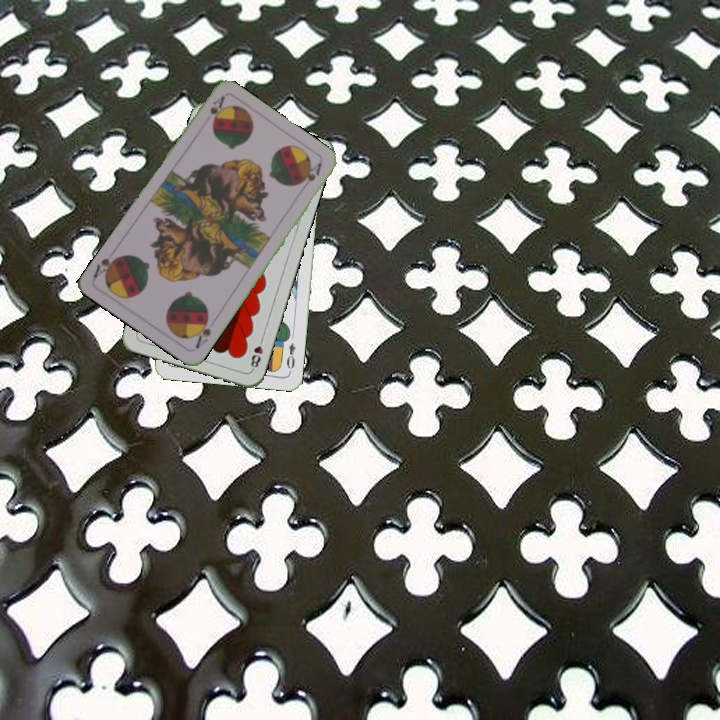EO: (282, 339, 298, 375)
H8: (247, 333, 266, 373)
SA: (190, 313, 214, 352), (205, 92, 228, 126)
